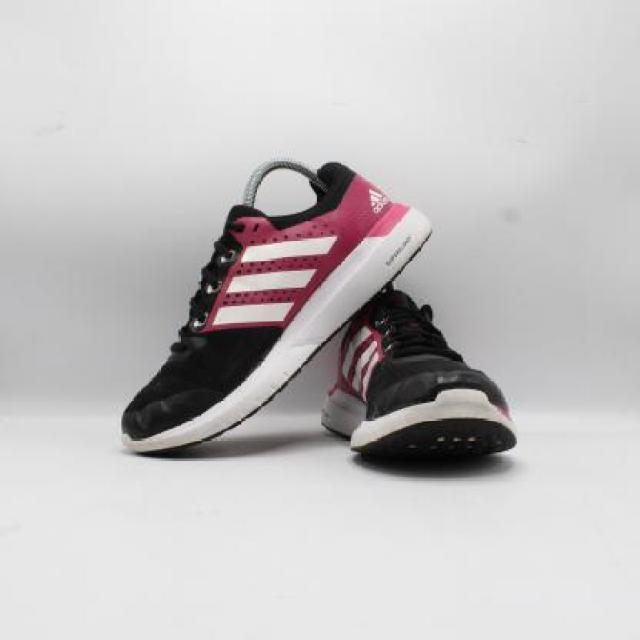Adidas: (211, 228, 343, 341)
